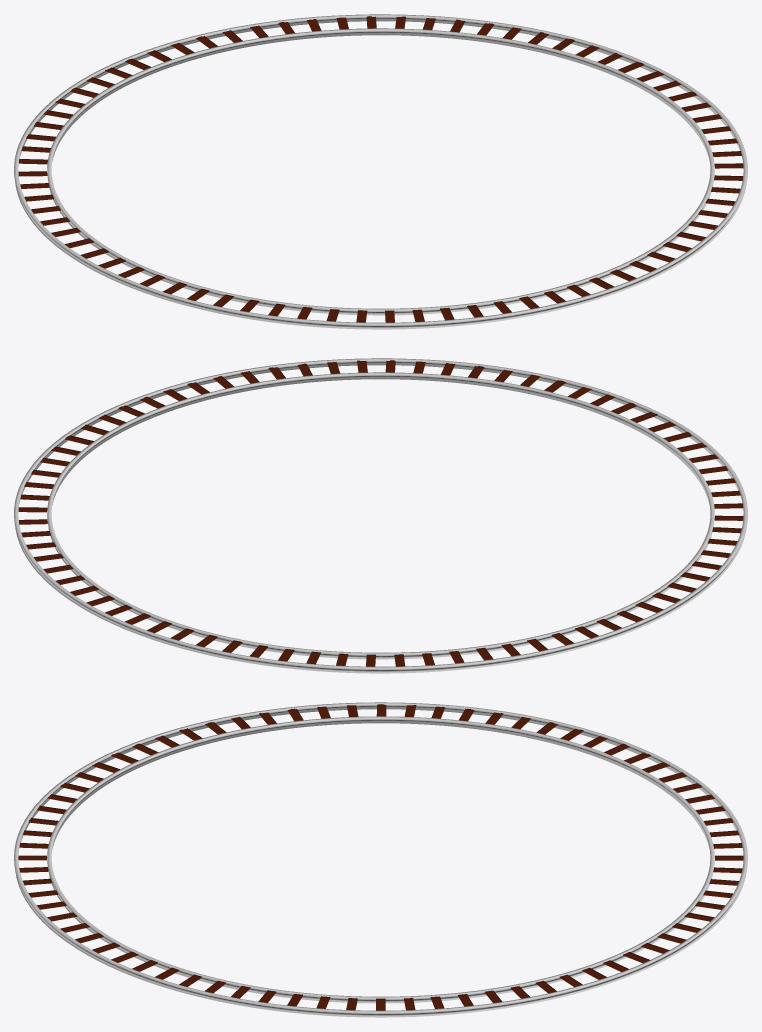
Rendered from Rails.obj.
3 views of the same model, one above another, from view 1: azimuth 30°, elevation 25°; view 2: azimuth 150°, elevation 25°; view 3: azimuth 270°, elevation 25° (orthographic).
Visible parts, largest first — view 1: Cube_Cube.001, Cube.001_Cube.002; view 2: Cube_Cube.001, Cube.001_Cube.002; view 3: Cube_Cube.001, Cube.001_Cube.002.
Boxes of the visible parts, <box> form: Cube_Cube.001: <box>14,14,747,329</box>; Cube.001_Cube.002: <box>18,16,743,322</box>; Cube_Cube.001: <box>14,358,747,673</box>; Cube.001_Cube.002: <box>18,360,743,666</box>; Cube_Cube.001: <box>14,702,747,1017</box>; Cube.001_Cube.002: <box>18,704,743,1010</box>.
Size of the model in its own units: 11.03 by 0.0867 by 11.03.
